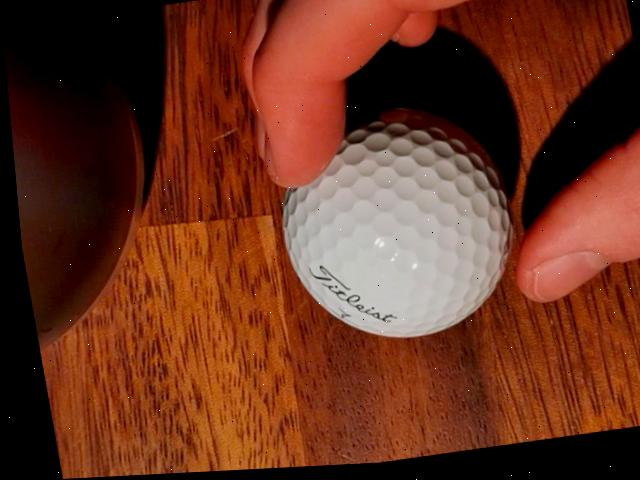Ball: (261, 98, 528, 358)
Titleist: (303, 260, 394, 337)
